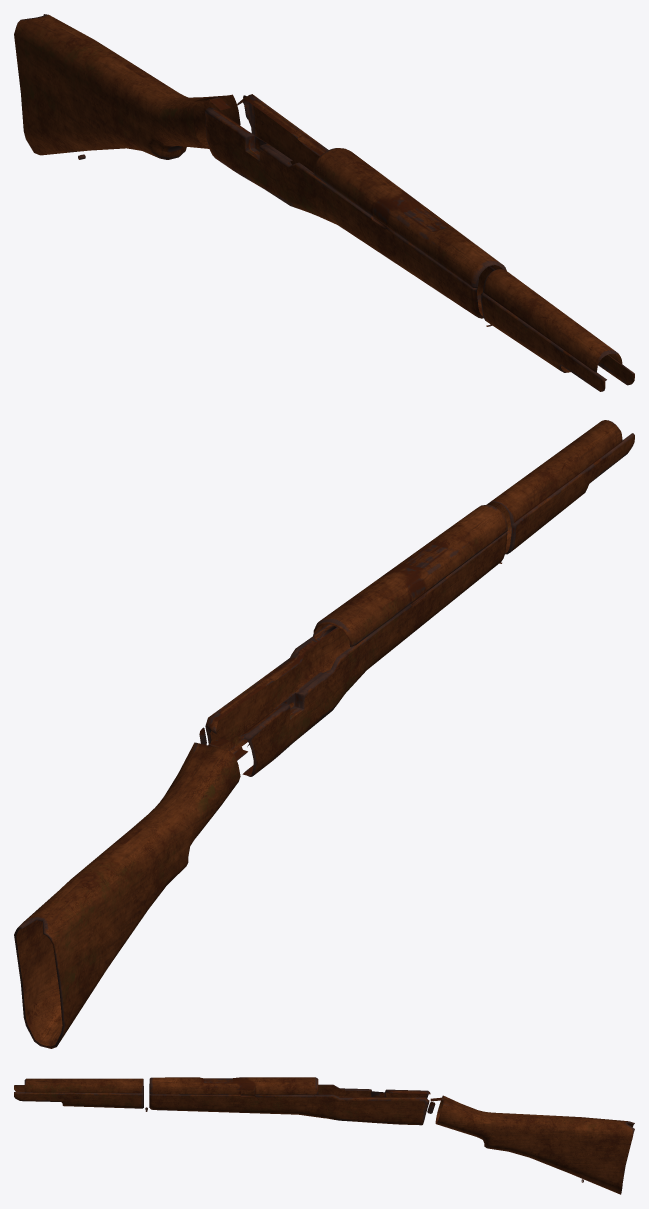
The picture shows the model from 3 angles, top to bottom: view 1: azimuth 30°, elevation 25°; view 2: azimuth 150°, elevation 25°; view 3: azimuth 270°, elevation 25°; orthographic projection. The views are drawn at different scales.
Visible parts, largest first — view 1: Object_5_Baked; view 2: Object_5_Baked; view 3: Object_5_Baked.
Part boxes in pixels (x1=…): Object_5_Baked: x1=14, y1=14, x2=634, y2=391; Object_5_Baked: x1=14, y1=420, x2=634, y2=1048; Object_5_Baked: x1=14, y1=1077, x2=634, y2=1194.
Bounding box in the file's own units: 0.6726 × 14.37 × 2.93.
1 material, 1 textured.
